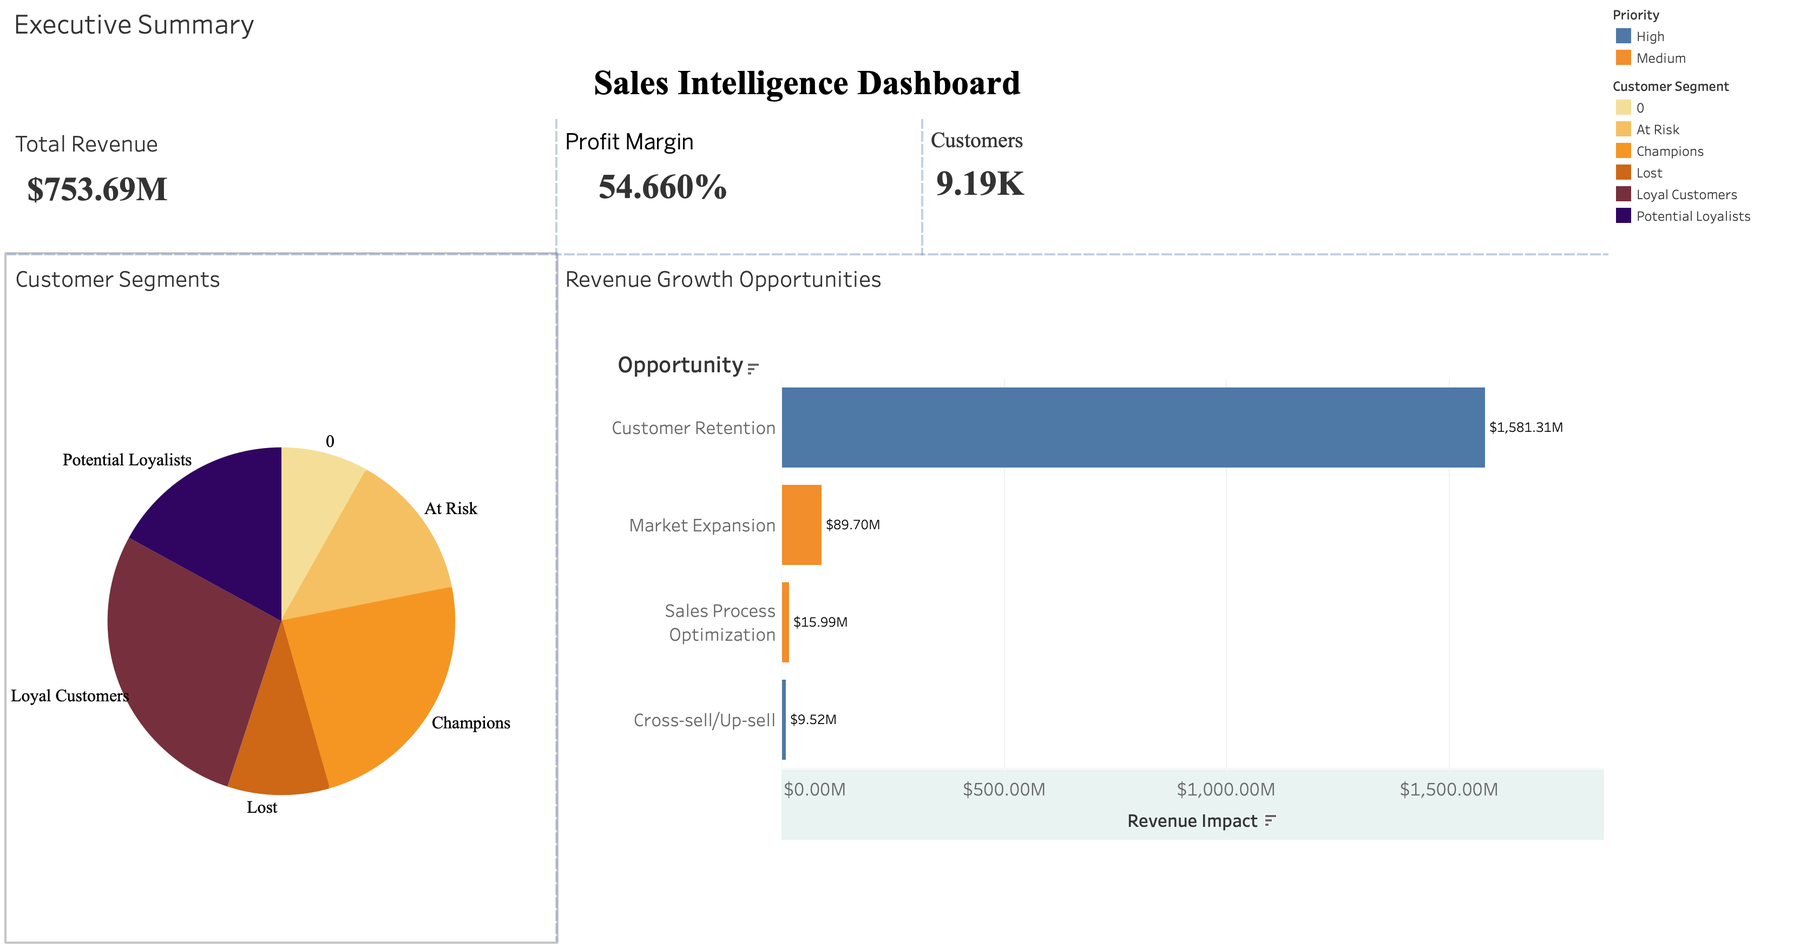

Layout of this report page (visuals, bound fields, positions):
{"tool":"tableau","page":{"name":"Executive Summary","canvas":[1000,1000],"units":"permille","ordinal":0},"visuals":[{"type":"title","box":[4.8,10,866,62.4]},{"type":"legend","title":"Revenue Growth Opportunities","param":"[federated.02ng4vv0rdw13r15o72sa149a878].[none:Priority:nk]","box":[870.9,10,124.3,89.9]},{"type":"text","box":[4.8,72.4,866,74.7]},{"type":"legend","title":"Customer Segments","param":"[federated.1kgqbsg0eathpr1h0z54h11k6wp0].[none:customer_segment:nk]","box":[870.9,99.9,124.3,194.8]},{"type":"worksheet","title":"Total Revenue","mark":"Automatic","box":[4.8,147.1,297.1,138.8]},{"type":"worksheet","title":"Profit Margin","mark":"Automatic","box":[301.9,147.1,197.8,138.8]},{"type":"worksheet","title":"Active Customers","mark":"Automatic","box":[499.7,147.1,371.2,138.8]},{"type":"worksheet","title":"Customer Segments","mark":"Pie","box":[4.8,285.9,297.1,704.1]},{"type":"worksheet","title":"Revenue Growth Opportunities","mark":"Automatic","rows":["Opportunity"],"cols":["Revenue_Impact"],"box":[301.9,285.9,569,704.1]}]}

Visuals, with their boxes on the dashboard's canvas, which has no fixed pixel size, in thousandths of its width and height (x1, y1, x2, y2). These are canvas units, not pixel positions in the 1800x947 screenshot, which may show the page scaled, cropped or inside an application window:
title: <box>5,10,871,72</box>
"Revenue Growth Opportunities" legend: <box>871,10,995,100</box>
text: <box>5,72,871,147</box>
"Customer Segments" legend: <box>871,100,995,295</box>
"Total Revenue" worksheet: <box>5,147,302,286</box>
"Profit Margin" worksheet: <box>302,147,500,286</box>
"Active Customers" worksheet: <box>500,147,871,286</box>
"Customer Segments" worksheet (Pie marks): <box>5,286,302,990</box>
"Revenue Growth Opportunities" worksheet: <box>302,286,871,990</box>
